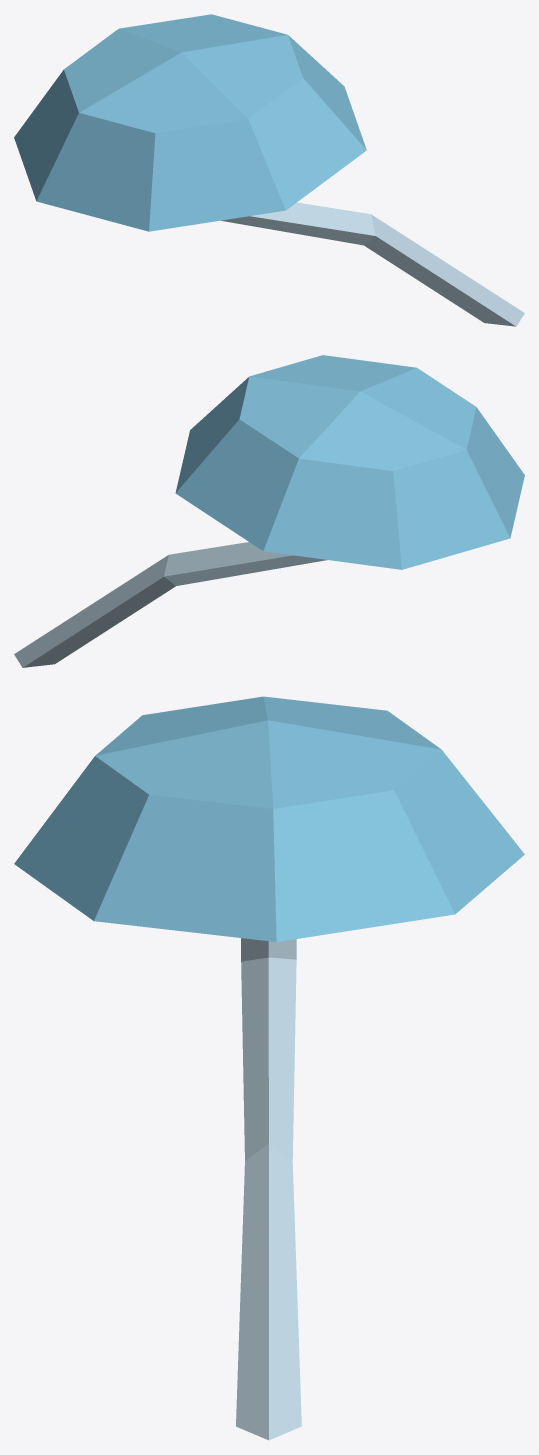
Rendered from Mushroom_a_02.fbx.
3 views of the same model, one above another, from view 1: azimuth 30°, elevation 25°; view 2: azimuth 150°, elevation 25°; view 3: azimuth 270°, elevation 25° (orthographic). The views are drawn at different scales.
Parts seen in each view (by area): view 1: Mushroom_a_02; view 2: Mushroom_a_02; view 3: Mushroom_a_02.
Boxes of the visible parts, x1,y1,x2,y2 form: Mushroom_a_02: (14,14,524,326); Mushroom_a_02: (14,355,524,667); Mushroom_a_02: (14,696,524,1440).
Bounding box in the file's own units: 34.9 × 23.42 × 22.39.
